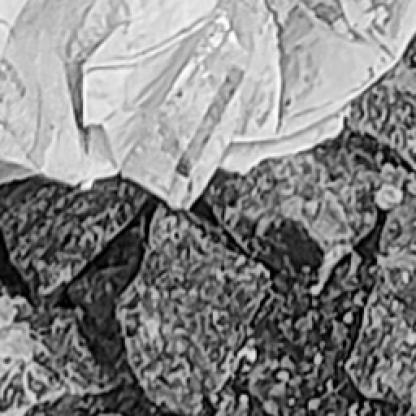cementitious_debris: (2, 45, 414, 414)
